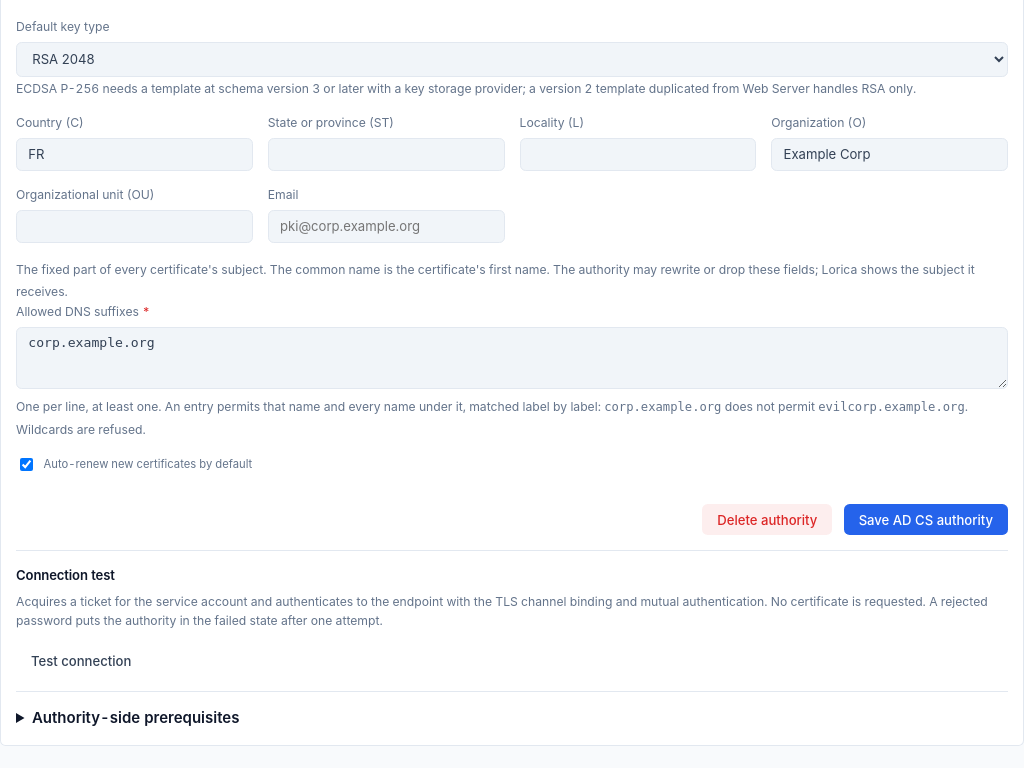
Test: AdcsAuthorityTab refusals › shows a 422 from the API verbatim
(page scrolled)
Click the button "Save AD CS authority". click: click(926, 520)
box: [844, 504, 1008, 535]
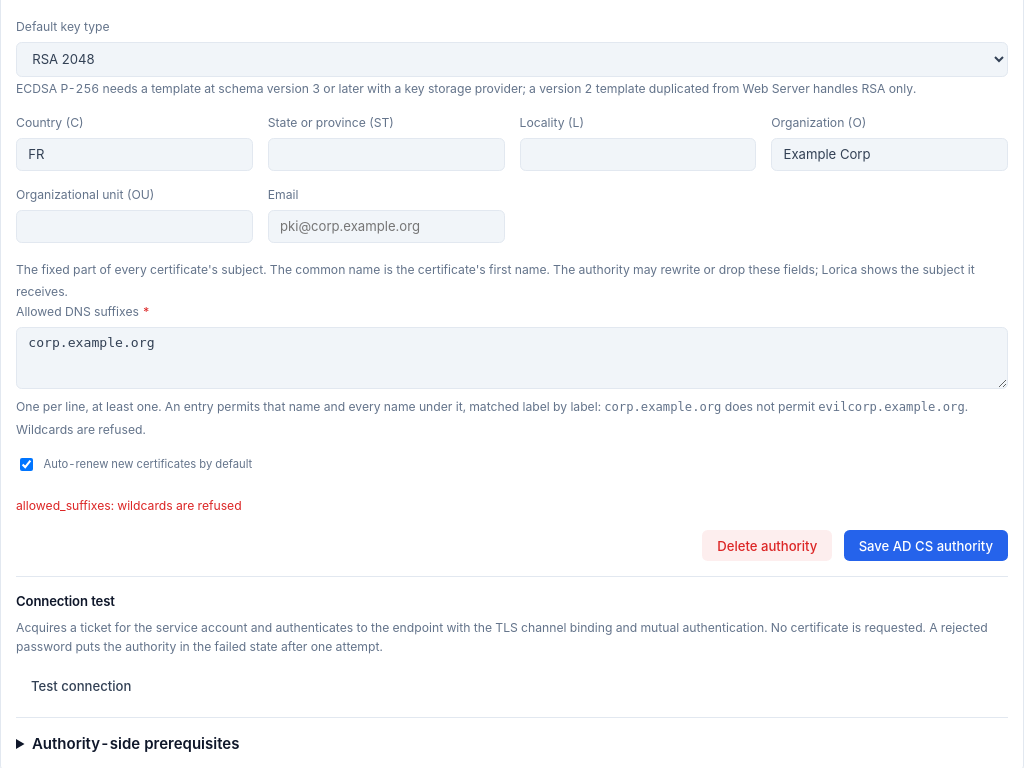
expect the message with test id "adcs-form-error" reads "allowed_suffixes: wildcards are refused": met, box [16, 498, 242, 513]
